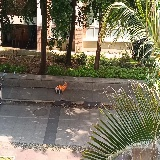fire: (56, 81, 67, 91)
